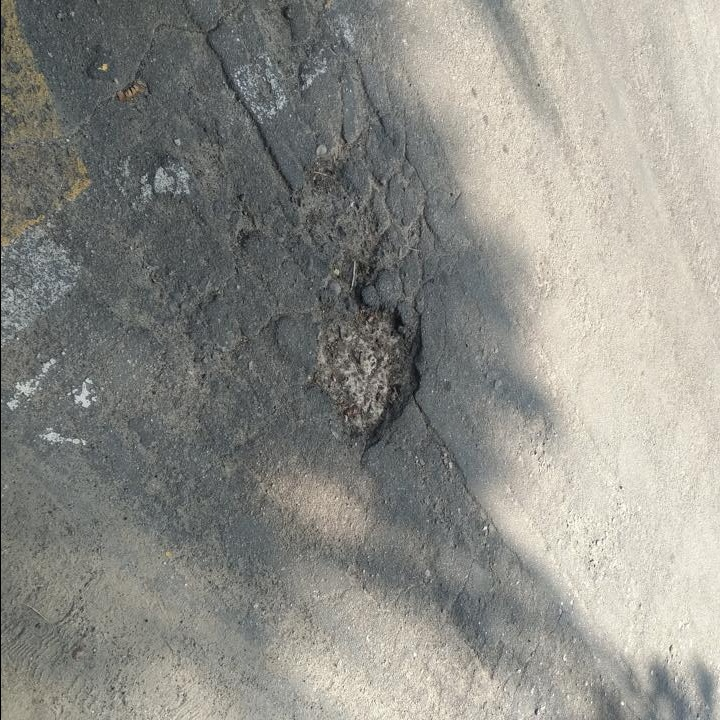pothole: (311, 296, 429, 462), (299, 157, 385, 293)
